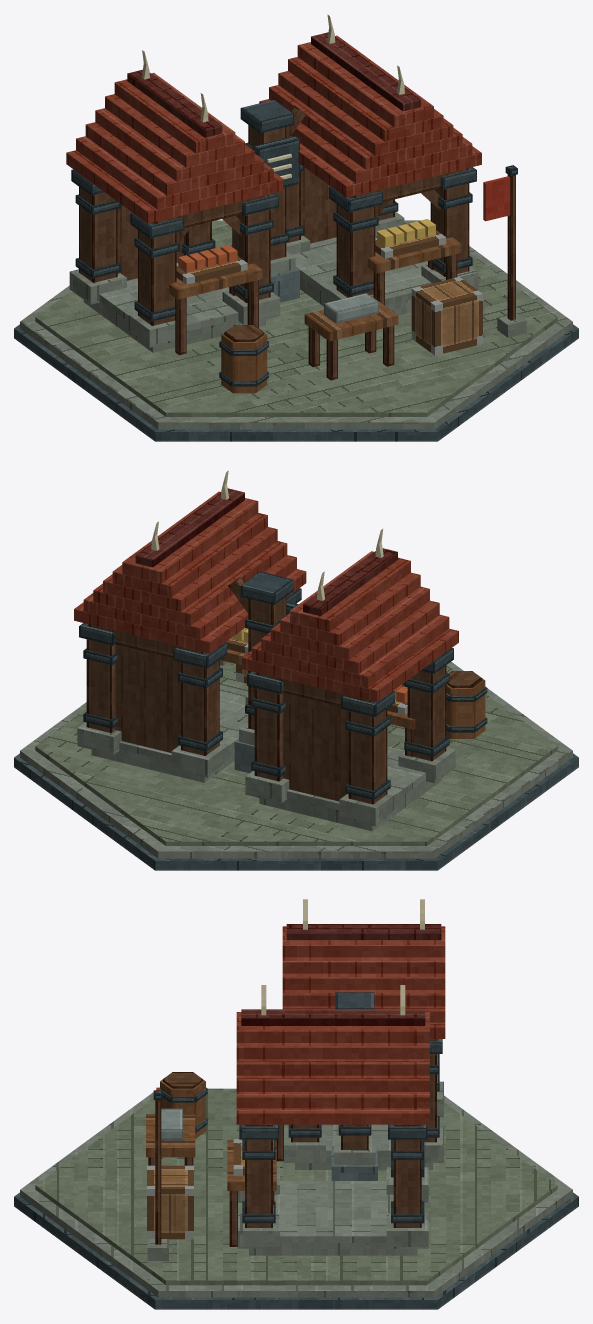
The model's file is orc_market_hex_v1.glb.
3 renders of one model, top to bottom at view 1: azimuth 30°, elevation 25°; view 2: azimuth 150°, elevation 25°; view 3: azimuth 270°, elevation 25°, orthographic.
Parts seen in each view (by area): view 1: Orc_Market_Hex_V1_Foundation, Orc_Market_Hex_V1_Roofs, Orc_Market_Hex_V1_Details, Orc_Market_Hex_V1_Structure, Orc_Market_Hex_V1_Hall, Orc_Market_Hex_V1_Faction, Orc_Market_Hex_V1_Focus; view 2: Orc_Market_Hex_V1_Foundation, Orc_Market_Hex_V1_Roofs, Orc_Market_Hex_V1_Structure, Orc_Market_Hex_V1_Hall, Orc_Market_Hex_V1_Details, Orc_Market_Hex_V1_Focus; view 3: Orc_Market_Hex_V1_Foundation, Orc_Market_Hex_V1_Roofs, Orc_Market_Hex_V1_Details, Orc_Market_Hex_V1_Structure, Orc_Market_Hex_V1_Hall, Orc_Market_Hex_V1_Focus.
Part boxes in pixels (bbox=[...]): Orc_Market_Hex_V1_Foundation: bbox=[14, 220, 578, 441]; Orc_Market_Hex_V1_Roofs: bbox=[66, 32, 481, 223]; Orc_Market_Hex_V1_Details: bbox=[75, 14, 526, 393]; Orc_Market_Hex_V1_Structure: bbox=[69, 99, 478, 347]; Orc_Market_Hex_V1_Hall: bbox=[84, 167, 431, 352]; Orc_Market_Hex_V1_Faction: bbox=[483, 176, 510, 221]; Orc_Market_Hex_V1_Focus: bbox=[270, 267, 299, 302]; Orc_Market_Hex_V1_Foundation: bbox=[14, 661, 578, 870]; Orc_Market_Hex_V1_Roofs: bbox=[74, 488, 458, 701]; Orc_Market_Hex_V1_Structure: bbox=[77, 571, 455, 826]; Orc_Market_Hex_V1_Hall: bbox=[91, 644, 441, 831]; Orc_Market_Hex_V1_Details: bbox=[83, 470, 487, 799]; Orc_Market_Hex_V1_Focus: bbox=[234, 739, 254, 773]; Orc_Market_Hex_V1_Foundation: bbox=[14, 1088, 578, 1309]; Orc_Market_Hex_V1_Roofs: bbox=[236, 924, 445, 1124]; Orc_Market_Hex_V1_Details: bbox=[146, 899, 439, 1260]; Orc_Market_Hex_V1_Structure: bbox=[238, 992, 443, 1248]; Orc_Market_Hex_V1_Hall: bbox=[249, 1124, 432, 1255]; Orc_Market_Hex_V1_Focus: bbox=[331, 1146, 377, 1180].
Bounding box in the file's own units: 1.59 × 0.946 × 1.84.
1 material, 1 textured.
